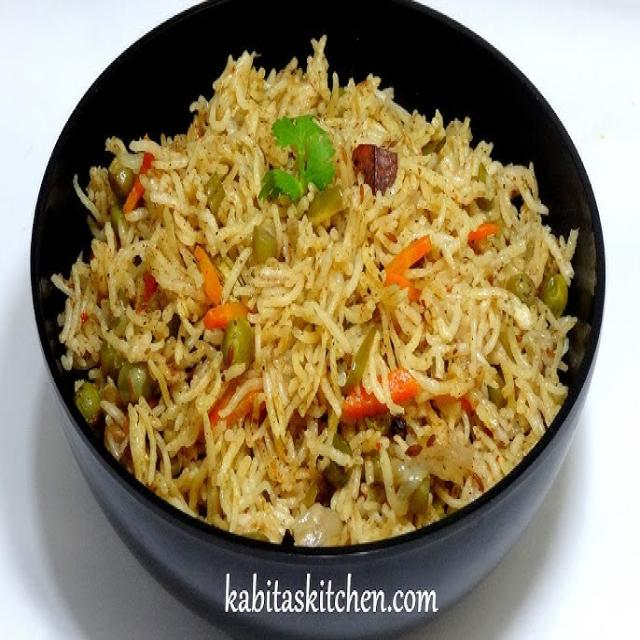veg palav: (49, 23, 593, 572)
